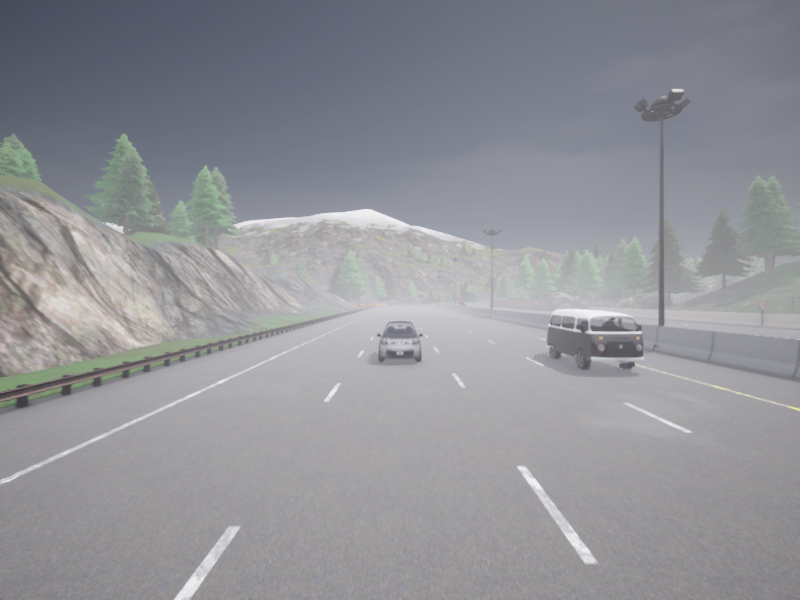vehicle: (545, 309, 644, 369), (377, 321, 422, 362), (457, 302, 464, 305), (459, 300, 465, 302), (473, 302, 476, 304), (449, 302, 452, 304), (480, 302, 482, 304)
